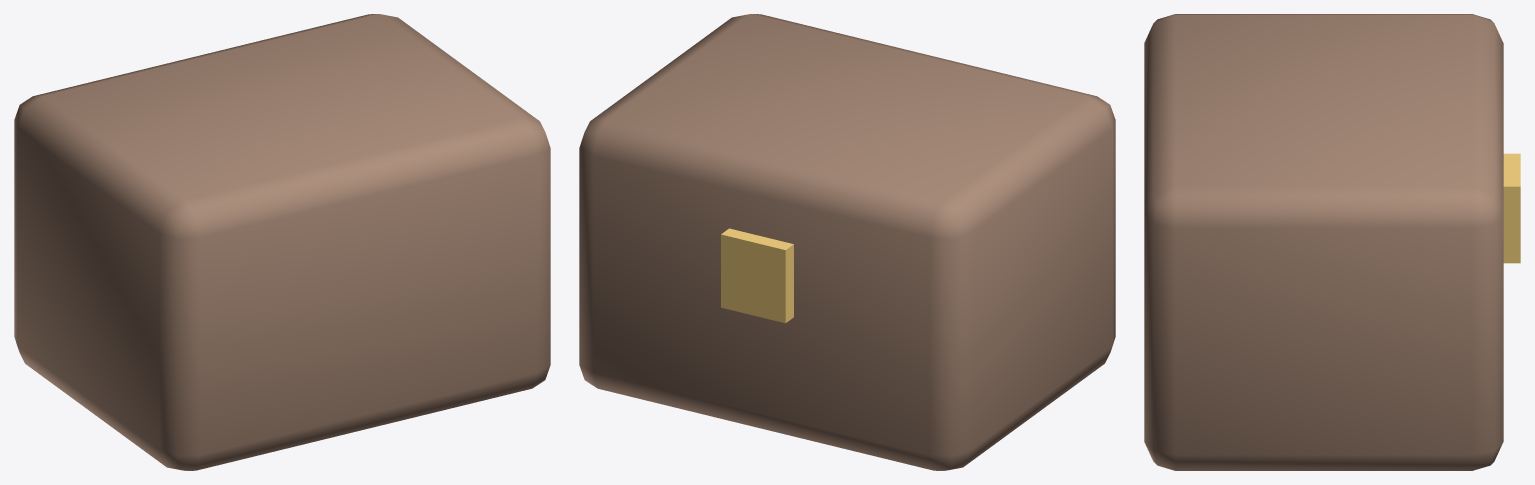
Rendered from FestivalStash.fbx.
3 renders of one model, left to right at view 1: azimuth 30°, elevation 25°; view 2: azimuth 150°, elevation 25°; view 3: azimuth 270°, elevation 25°, orthographic. The views are drawn at different scales.
Parts seen in each view (by area): view 1: FestivalStash Wood__Wood; view 2: FestivalStash Wood__Wood, FestivalStash Gold__Gold; view 3: FestivalStash Wood__Wood, FestivalStash Gold__Gold.
Boxes of the visible parts, x1,y1,x2,y2 form: FestivalStash Wood__Wood: [14, 14, 550, 470]; FestivalStash Wood__Wood: [579, 14, 1115, 470]; FestivalStash Gold__Gold: [721, 228, 793, 323]; FestivalStash Wood__Wood: [1144, 14, 1503, 470]; FestivalStash Gold__Gold: [1503, 153, 1520, 263].
Size of the model in its own units: 150 by 100 by 121.
